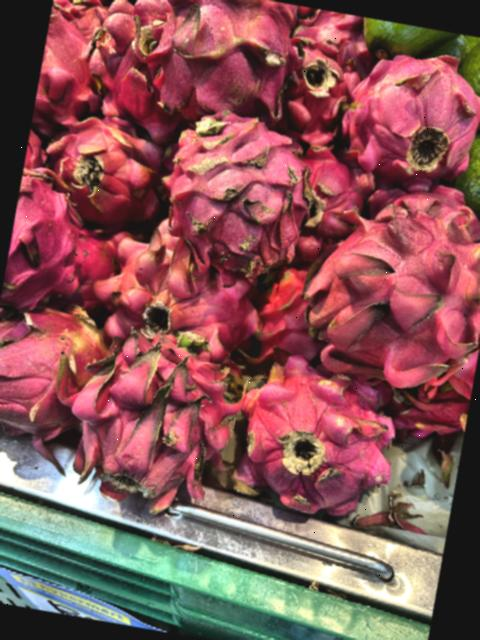buah-naga-belum-matang: (83, 213, 288, 383), (74, 0, 309, 141), (0, 301, 117, 454)
buah-naga-matang: (63, 310, 256, 550), (281, 185, 480, 390), (217, 364, 420, 534), (137, 108, 337, 270), (21, 100, 189, 230), (327, 46, 480, 178), (0, 166, 110, 337), (30, 0, 140, 144)
